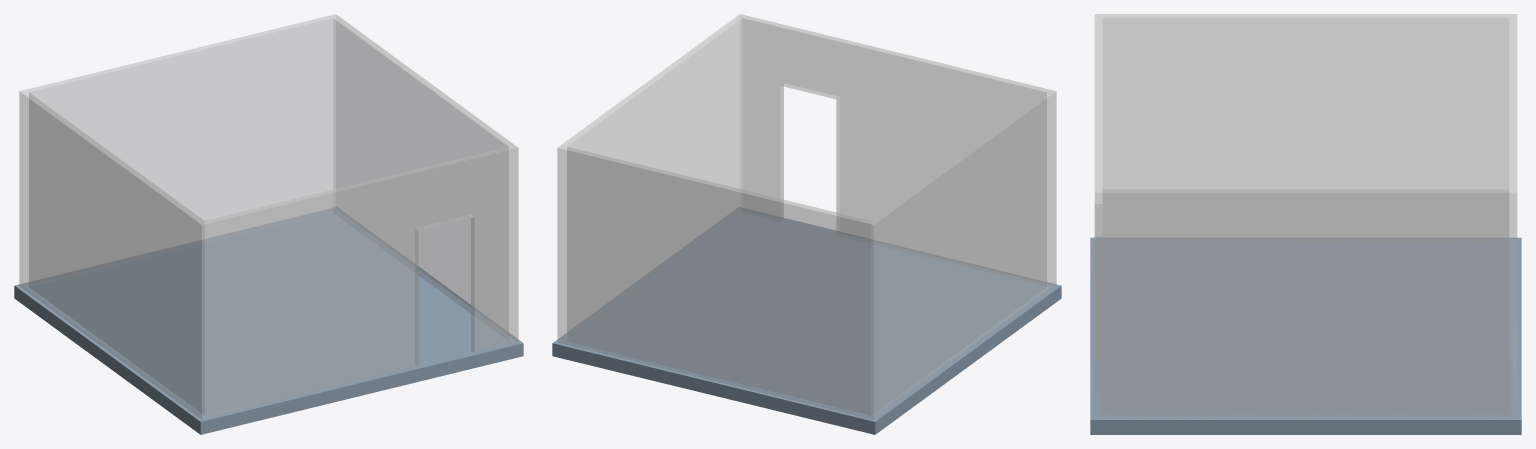
File: room.gltf
3 renders of one model, left to right at view 1: azimuth 30°, elevation 25°; view 2: azimuth 150°, elevation 25°; view 3: azimuth 270°, elevation 25°, orthographic. The views are drawn at different scales.
Visible parts, largest first — view 1: 壁, Slab; view 2: 壁, Slab; view 3: 壁, Slab.
Part boxes in pixels (left/top/right/bottom): 壁: left=19, top=14, right=518, bottom=419; Slab: left=14, top=207, right=523, bottom=434; 壁: left=557, top=14, right=1056, bottom=419; Slab: left=552, top=207, right=1061, bottom=434; 壁: left=1094, top=14, right=1517, bottom=418; Slab: left=1090, top=237, right=1521, bottom=434.
Bounding box in the file's own units: 5.2 × 3.2 × 5.2.
